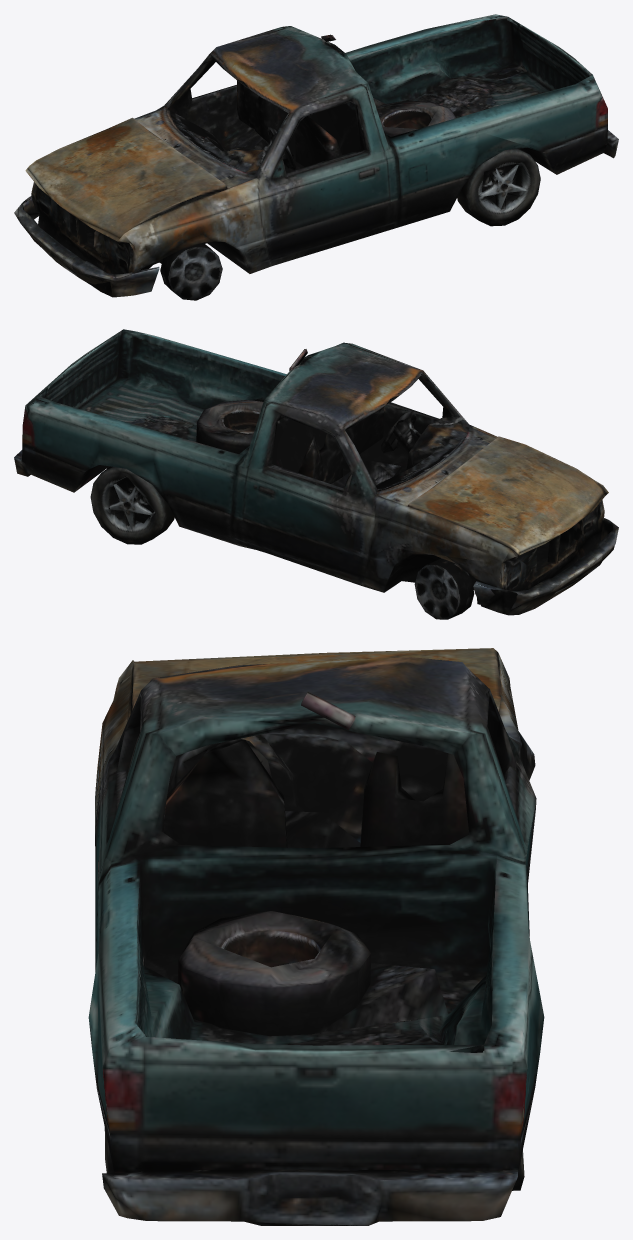
Rendered from broken_car2.glb.
3 renders of one model, top to bottom at view 1: azimuth 30°, elevation 25°; view 2: azimuth 150°, elevation 25°; view 3: azimuth 270°, elevation 25°, orthographic. The views are drawn at different scales.
Bounding box in the file's own units: 2.5 × 0.847 × 0.9371.
Materials: 1 (1 with a texture image).
